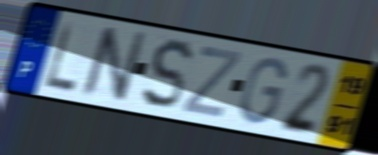2: (279, 62, 333, 137)
G: (238, 55, 289, 127)
L: (43, 17, 79, 94)
N: (78, 24, 150, 105)
S: (140, 37, 195, 112)
Z: (179, 43, 245, 121)
